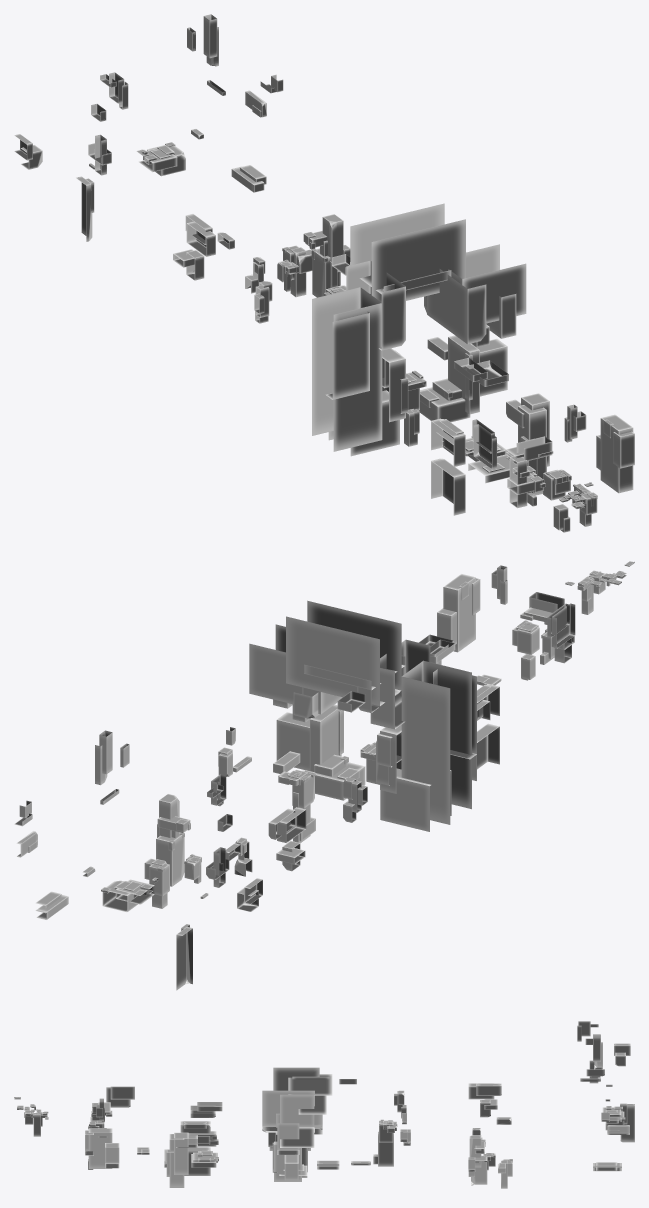
File: AlphaBowLevelUV.fbx
The picture shows the model from 3 angles, top to bottom: view 1: azimuth 30°, elevation 25°; view 2: azimuth 150°, elevation 25°; view 3: azimuth 270°, elevation 25°; orthographic projection. The views are drawn at different scales.
Visible parts, largest first — view 1: AlphaBowLevel; view 2: AlphaBowLevel; view 3: AlphaBowLevel.
Part boxes in pixels (x1,y1,x2,y2): AlphaBowLevel: (14, 14, 634, 532); AlphaBowLevel: (14, 561, 634, 990); AlphaBowLevel: (14, 1021, 634, 1188).
Size of the model in its own units: 8244 by 27553 by 7859.
